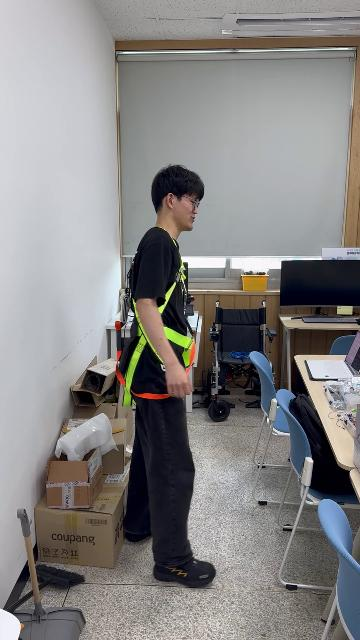helmet_not_worn: (148, 163, 207, 224)
shoe_worn: (154, 558, 216, 587), (124, 529, 150, 543)
vest_worn: (117, 239, 195, 400)
